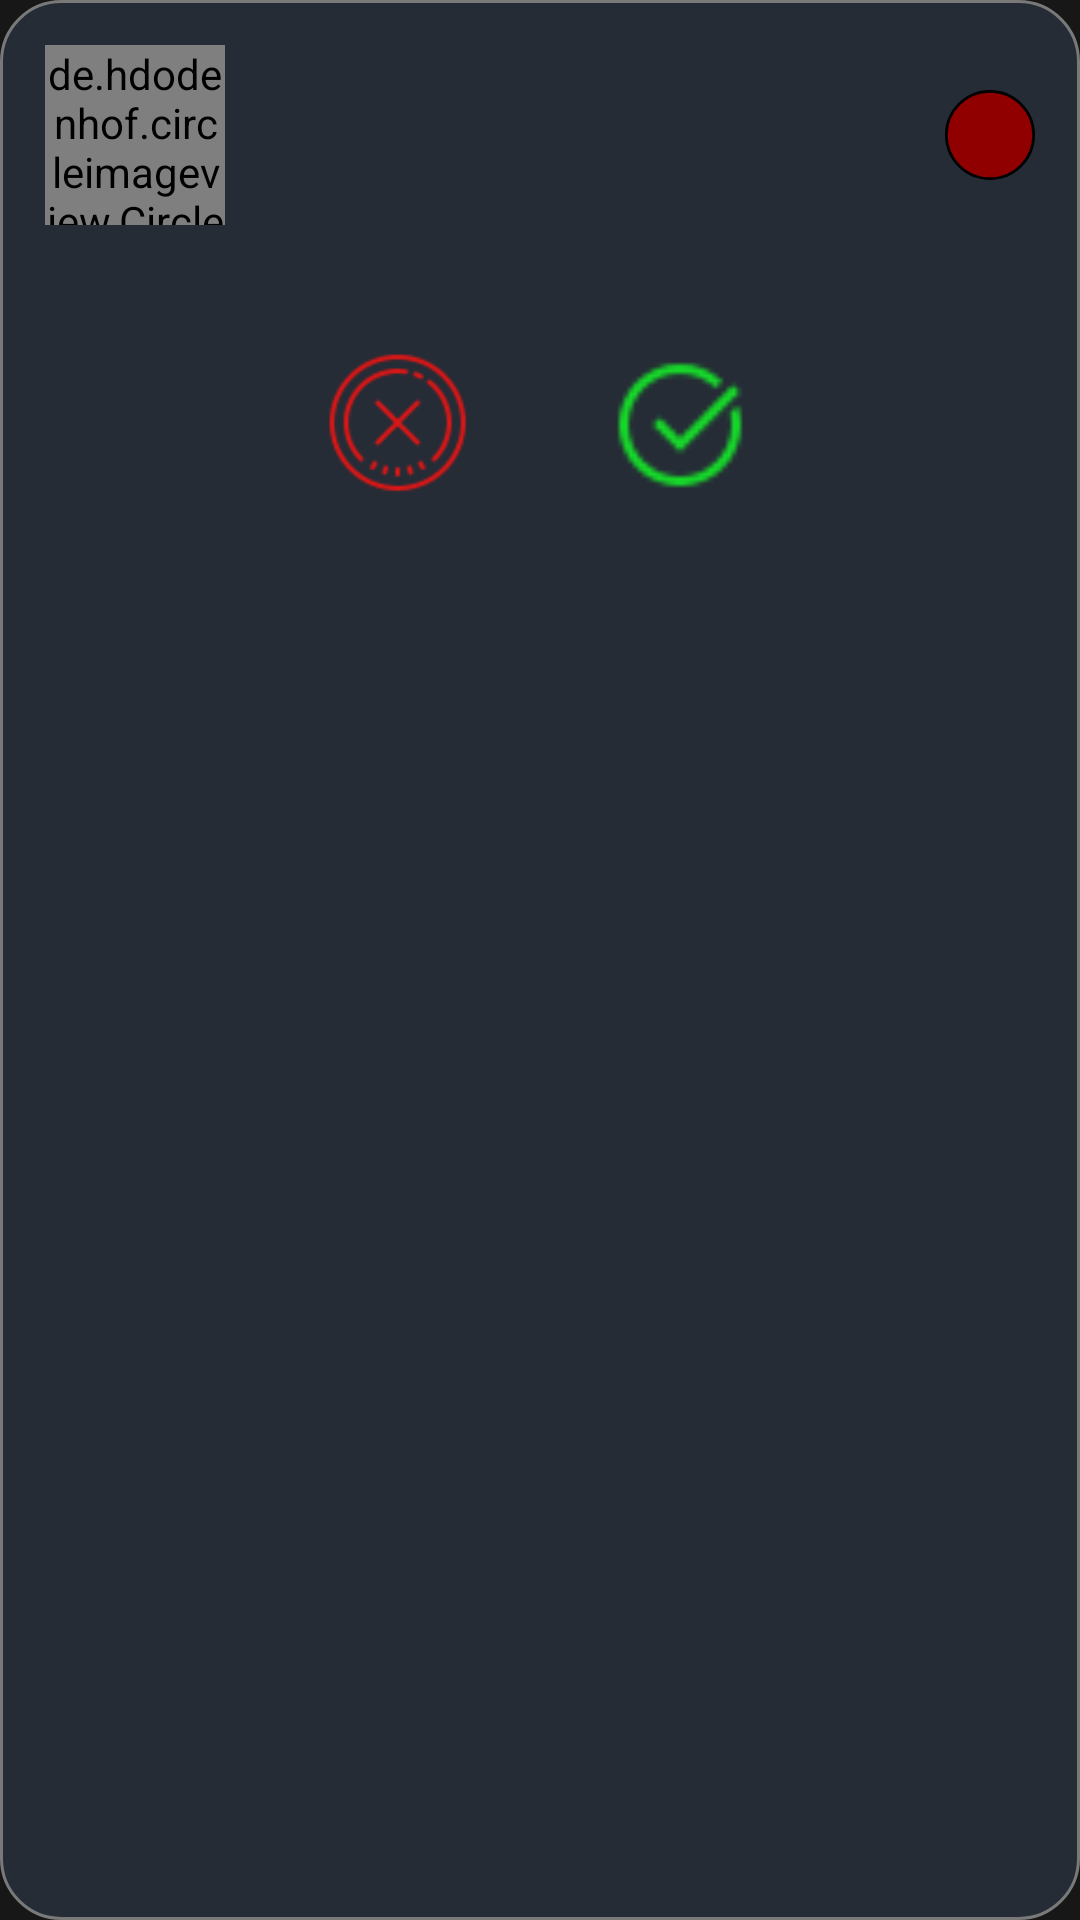

Screen size 1080px x 1920px. Icon name, then its center in pixels as (x,y):
checked: (680,425)
delete: (397,422)
